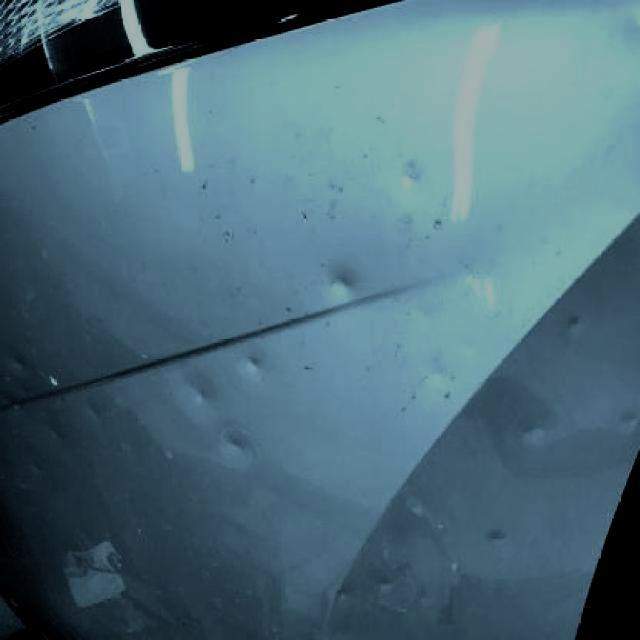dent: (218, 430, 251, 463), (183, 380, 214, 411), (417, 360, 451, 388), (323, 272, 356, 297), (562, 307, 587, 335), (243, 354, 266, 377), (522, 424, 545, 446), (13, 357, 30, 377), (48, 429, 67, 444), (32, 461, 45, 476)
